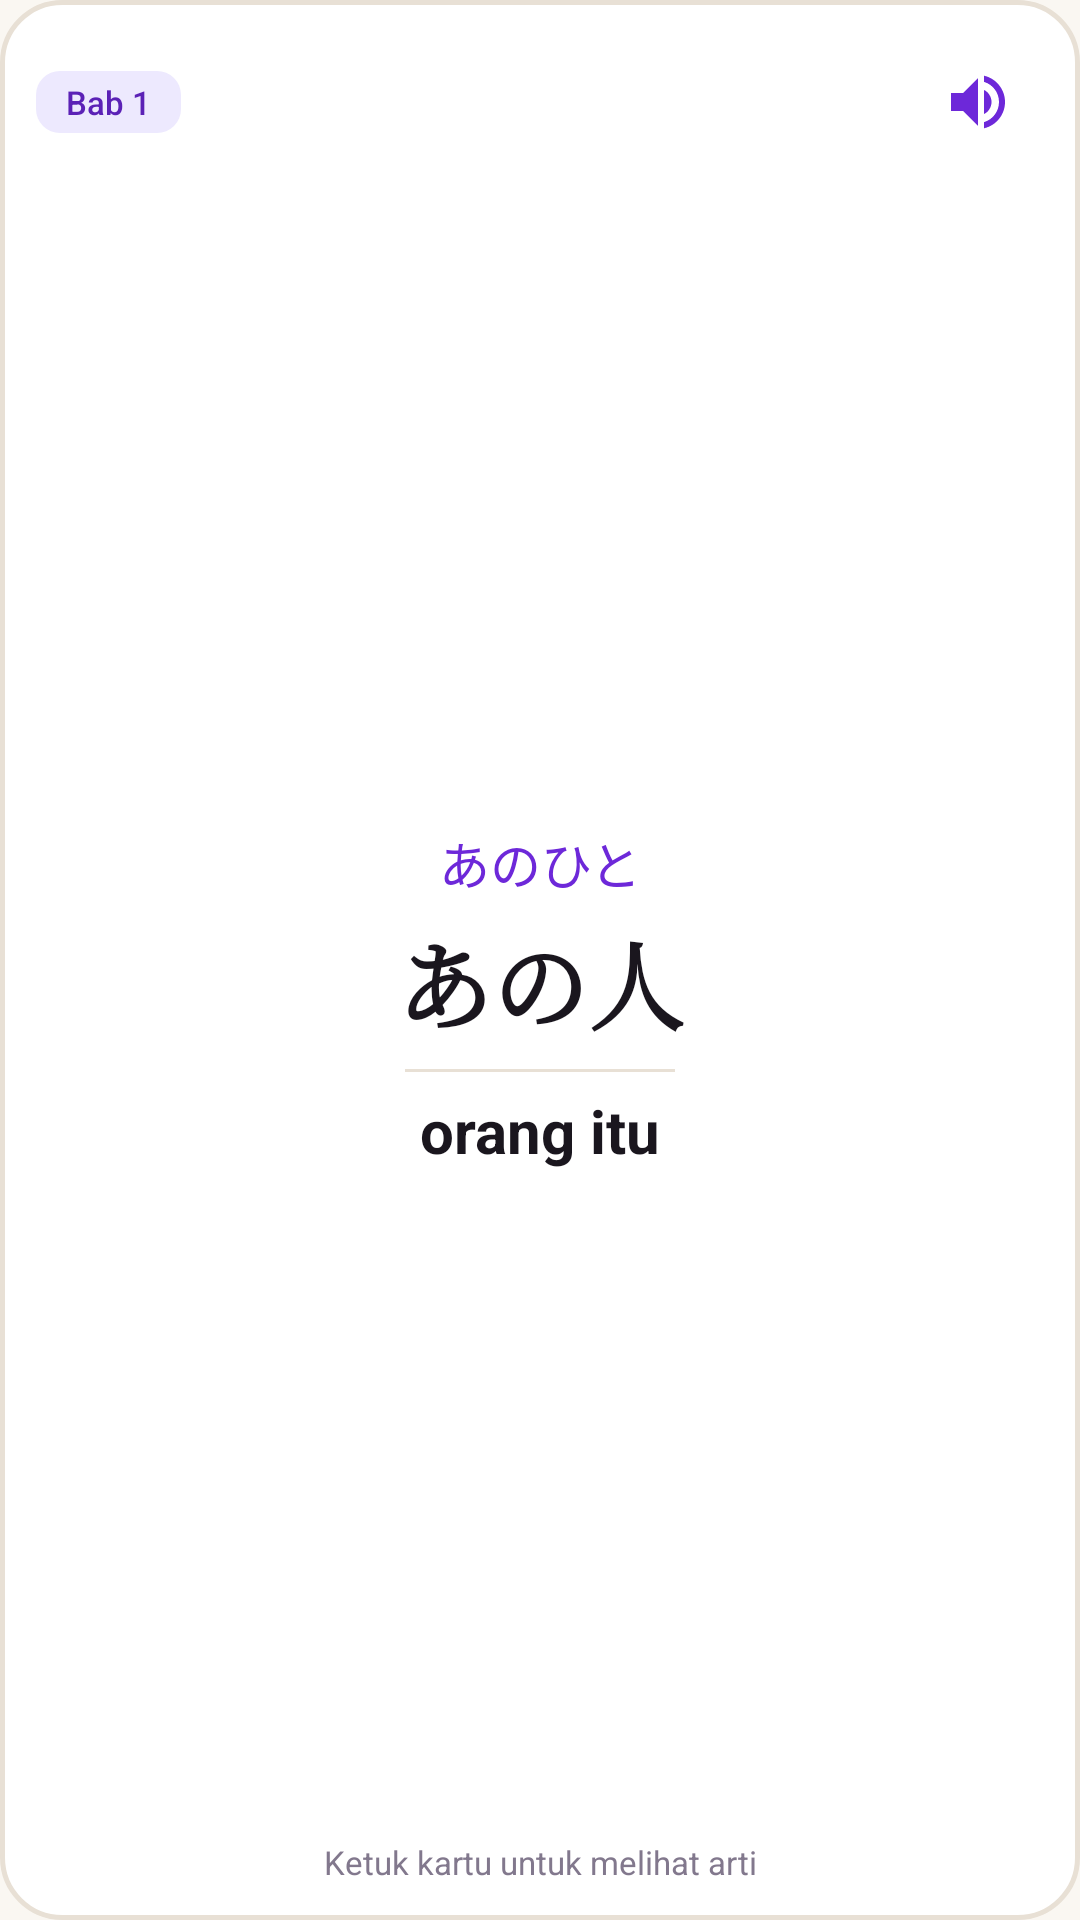

Named icons in this screenshot (1080px x 1920px) and their centers, [x,y]:
Lafal: [978,102]
